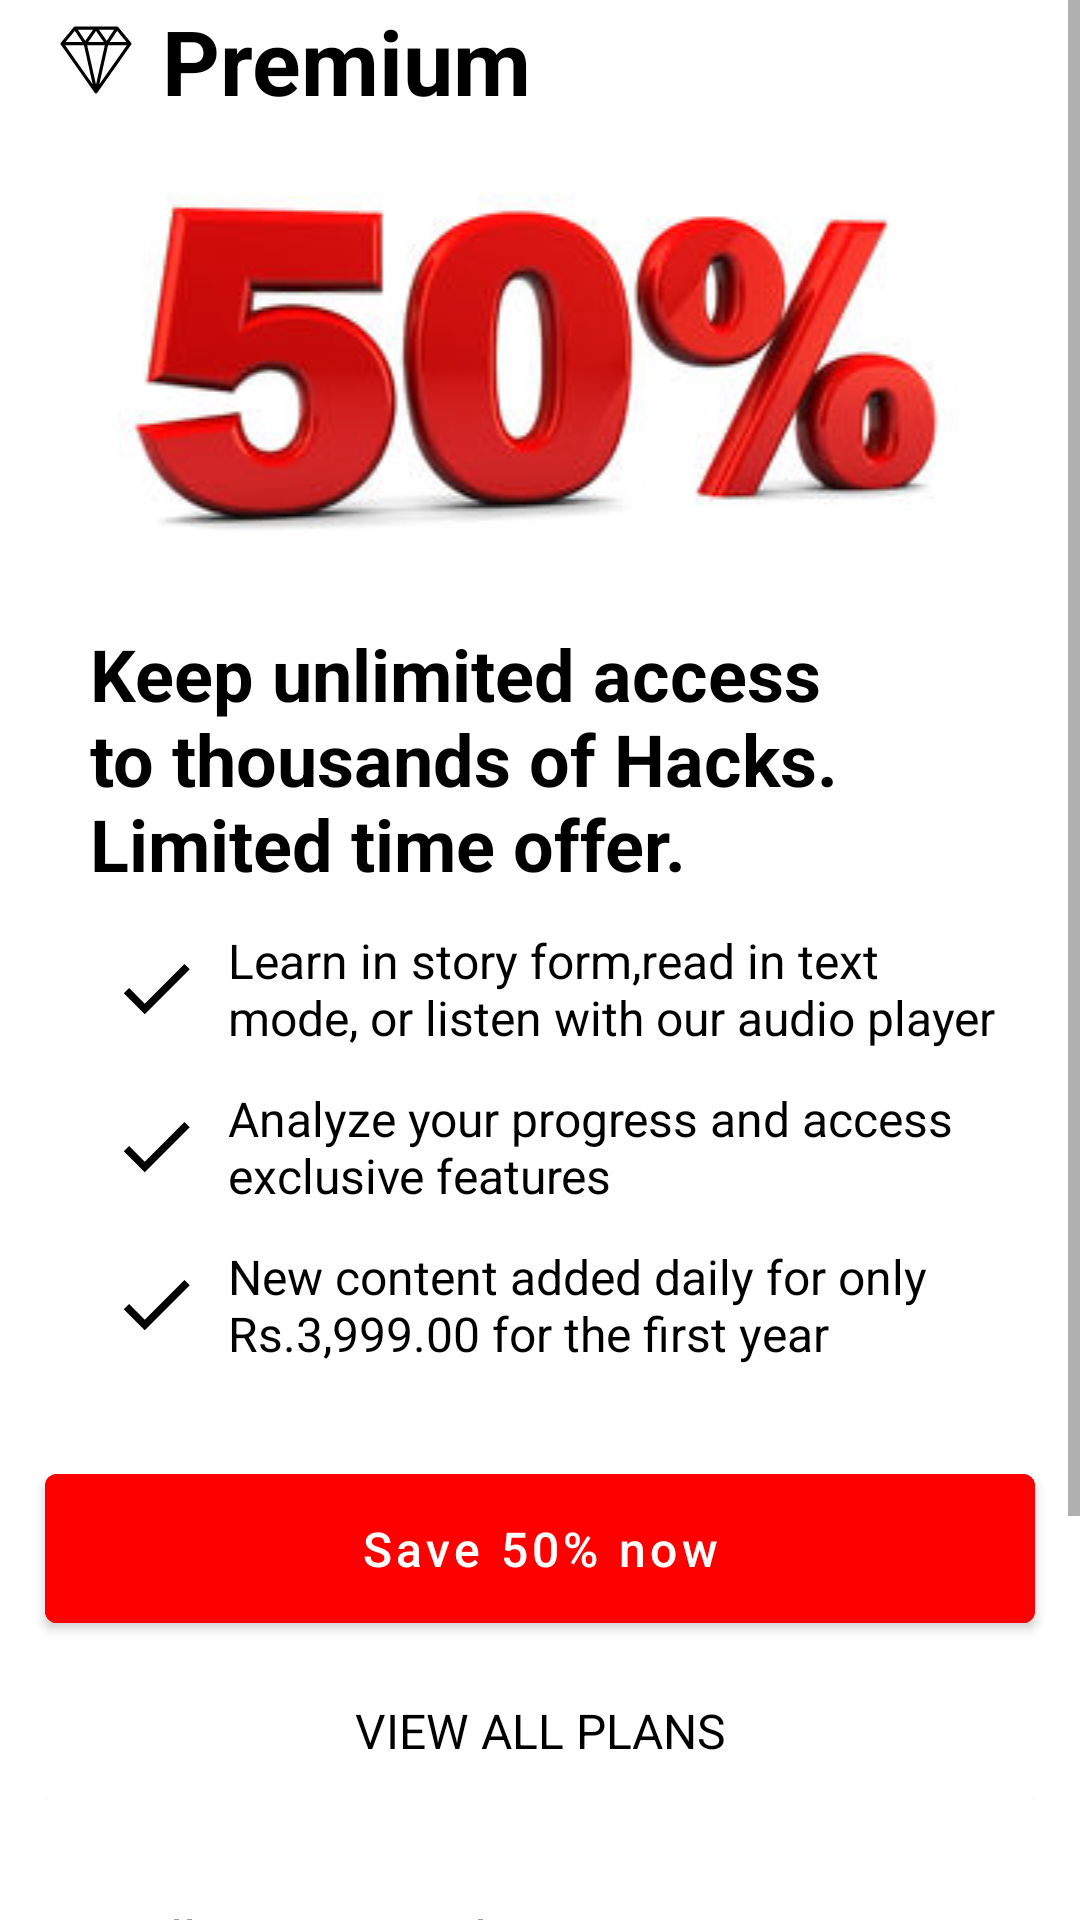

Where icons sit on this 1080x1920 app screen, as [x1, y1, x2, y2]:
check: [124, 964, 190, 1014], [124, 1122, 190, 1172], [124, 1280, 190, 1330]
